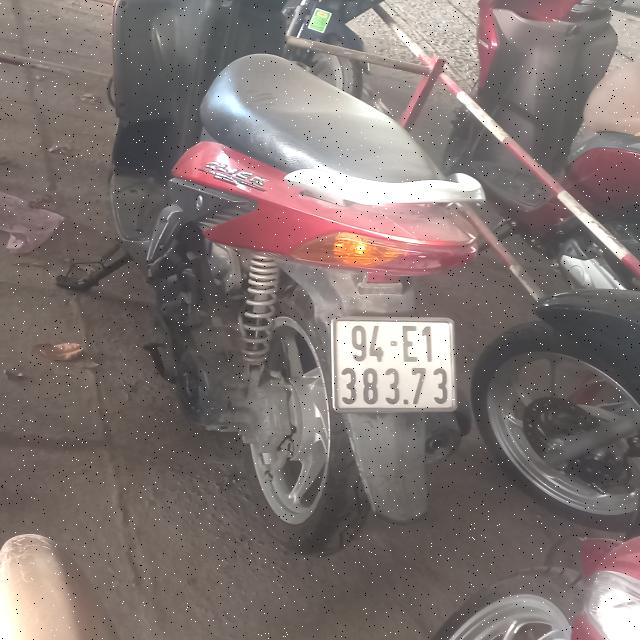1: (422, 326, 432, 362)
3: (341, 368, 357, 407), (384, 368, 400, 404), (433, 368, 448, 406)
7: (411, 366, 426, 406)
8: (363, 367, 379, 405)
9: (352, 325, 368, 362), (370, 324, 384, 362)
E: (402, 325, 419, 361)
